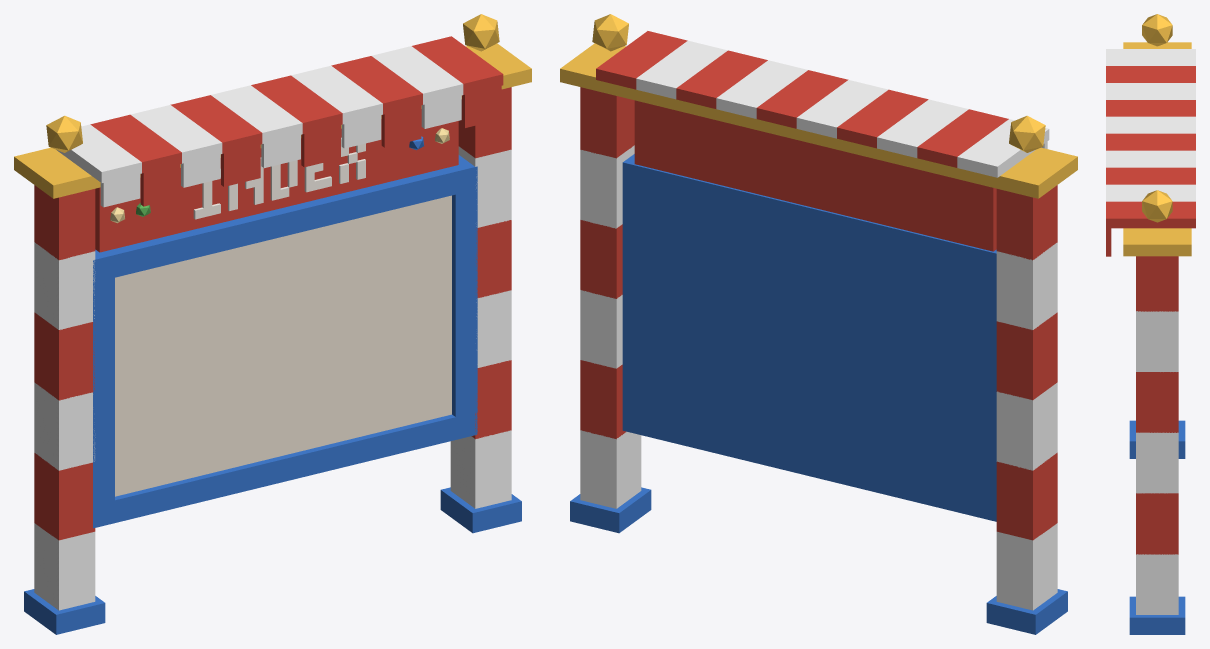
Rendered from CatCafe_WaterPark_IndexBoard.glb.
3 views of the same model, side by side, from view 1: azimuth 30°, elevation 25°; view 2: azimuth 150°, elevation 25°; view 3: azimuth 270°, elevation 25° (orthographic). The views are drawn at different scales.
Visible parts, largest first — view 1: CatCafe_WaterPark_IndexBoard, CatCafe_WaterPark_IndexBoard_Screen; view 2: CatCafe_WaterPark_IndexBoard; view 3: CatCafe_WaterPark_IndexBoard.
Boxes of the visible parts, box(x1,y1,x2,y2) form: CatCafe_WaterPark_IndexBoard: box(14, 14, 531, 634); CatCafe_WaterPark_IndexBoard_Screen: box(115, 195, 451, 496); CatCafe_WaterPark_IndexBoard: box(560, 14, 1077, 634); CatCafe_WaterPark_IndexBoard: box(1106, 14, 1195, 634).
Bounding box in the file's own units: 11.2 × 11.22 × 2.1.
Materials: 1 (1 with a texture image).
